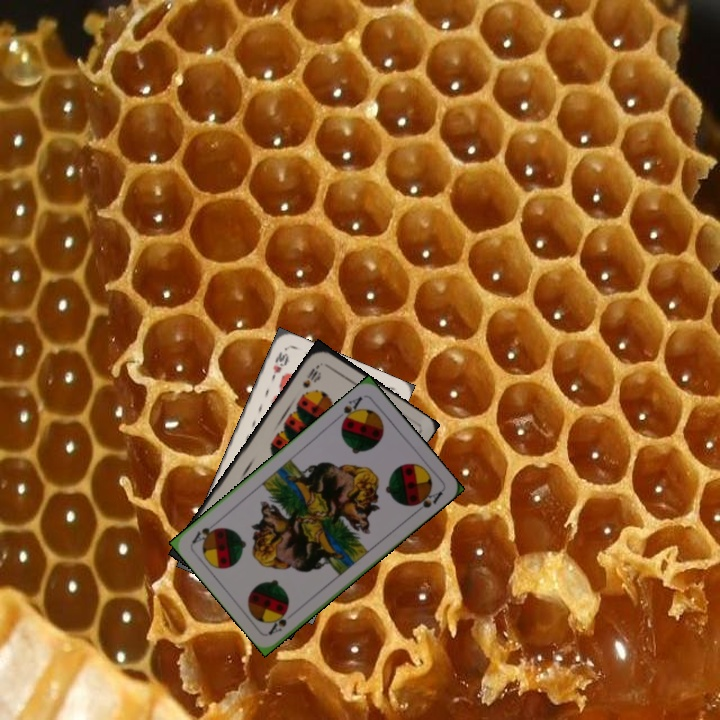H10: (267, 347, 291, 384)
S10: (298, 361, 322, 391)
SA: (337, 392, 365, 428), (265, 606, 291, 637)
